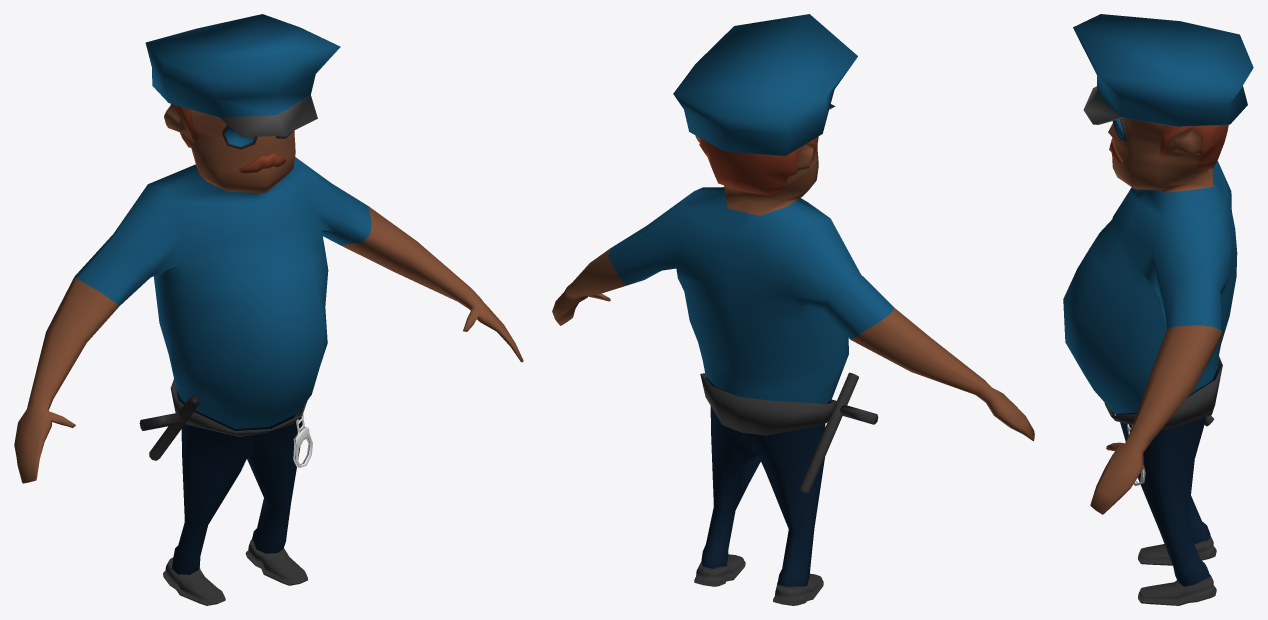
File: Police.fbx
3 renders of one model, left to right at view 1: azimuth 30°, elevation 25°; view 2: azimuth 150°, elevation 25°; view 3: azimuth 270°, elevation 25°, orthographic. The views are drawn at different scales.
Visible parts, largest first — view 1: Cube, Cube.001, Cube.003, Cylinder.005; view 2: Cube, Cylinder.005, Cube.003, Cube.001; view 3: Cube, Cube.003, Cube.001.
Boxes of the visible parts, left/top/right/bottom form: Cube: left=14, top=14, right=523, bottom=574; Cube.001: left=163, top=557, right=225, bottom=605; Cube.003: left=245, top=539, right=307, bottom=585; Cylinder.005: left=139, top=395, right=199, bottom=460; Cube: left=552, top=14, right=1034, bottom=586; Cylinder.005: left=799, top=372, right=878, bottom=493; Cube.003: left=694, top=554, right=745, bottom=586; Cube.001: left=773, top=573, right=823, bottom=605; Cube: left=1063, top=14, right=1253, bottom=586; Cube.003: left=1138, top=575, right=1216, bottom=605; Cube.001: left=1138, top=535, right=1216, bottom=565.
Size of the model in its own units: 779 by 840 by 263.
